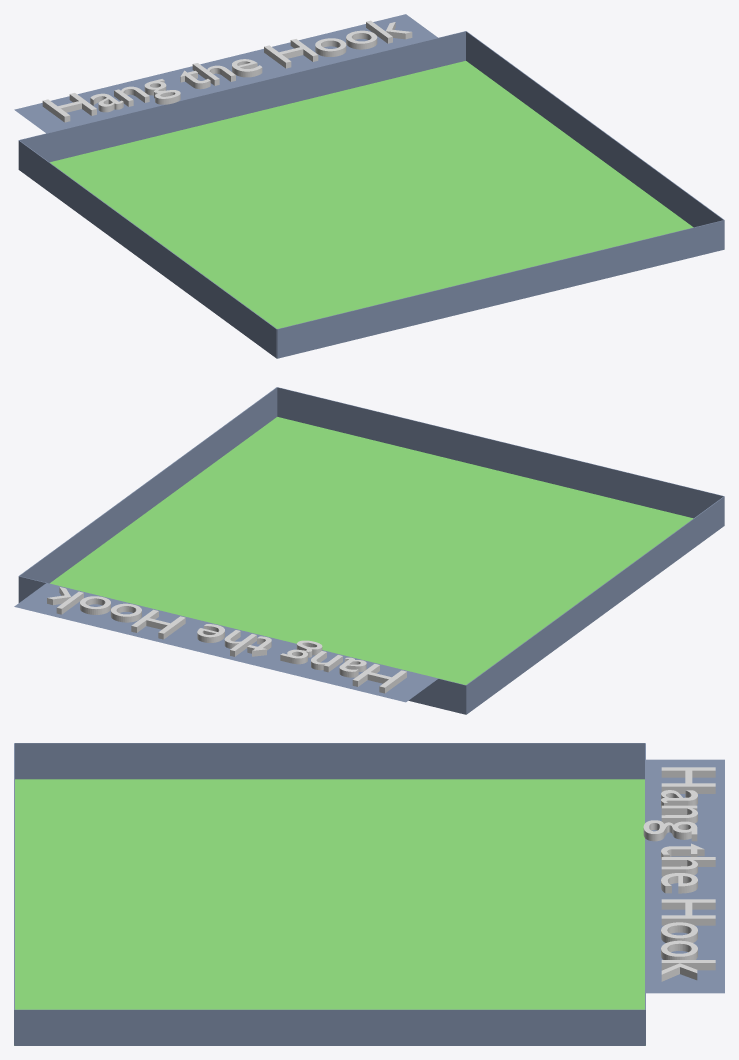
The model's file is hangthehook.dae.
3 renders of one model, top to bottom at view 1: azimuth 30°, elevation 25°; view 2: azimuth 150°, elevation 25°; view 3: azimuth 270°, elevation 25°, orthographic. The views are drawn at different scales.
Parts seen in each view (by area): view 1: Plane, Cube.001, Plane.003, Text.001; view 2: Plane, Cube.001, Plane.003, Text.001; view 3: Plane, Cube.001, Plane.003, Text.001.
Boxes of the visible parts, box(x1,y1,x2,y2) form: Plane: box(50, 61, 693, 328); Cube.001: box(18, 31, 724, 358); Plane.003: box(14, 14, 437, 133); Text.001: box(42, 20, 412, 122); Plane: box(50, 417, 693, 684); Cube.001: box(18, 387, 724, 714); Plane.003: box(14, 583, 437, 702); Text.001: box(47, 587, 406, 693); Plane: box(14, 779, 645, 1045); Cube.001: box(14, 743, 645, 1045); Plane.003: box(646, 759, 724, 993); Text.001: box(643, 767, 715, 981).
Size of the model in its own units: 8 by 9 by 0.6.
